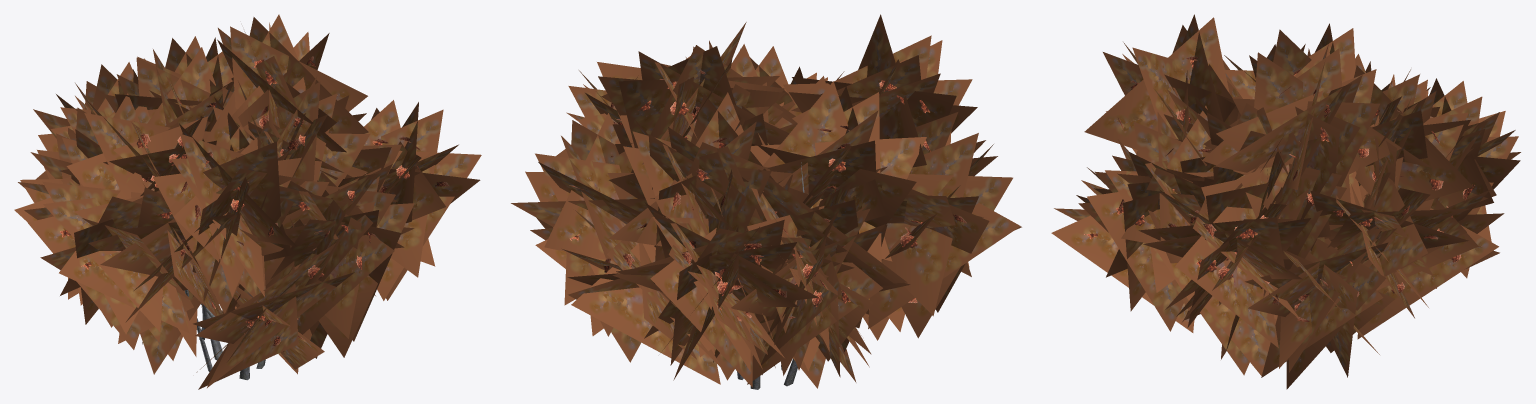
Rendered from Sorbus_Aria_Autumn_Young.glb.
The picture shows the model from 3 angles, left to right: view 1: azimuth 30°, elevation 25°; view 2: azimuth 150°, elevation 25°; view 3: azimuth 270°, elevation 25°; orthographic projection. The views are drawn at different scales.
Visible parts, largest first — view 1: Sorbus_Aria_Autumn_Young__LOD3; view 2: Sorbus_Aria_Autumn_Young__LOD3; view 3: Sorbus_Aria_Autumn_Young__LOD3.
Part boxes in pixels (x1,y1,x2,y2): Sorbus_Aria_Autumn_Young__LOD3: (14, 14, 481, 389); Sorbus_Aria_Autumn_Young__LOD3: (511, 14, 1021, 389); Sorbus_Aria_Autumn_Young__LOD3: (1051, 14, 1520, 389).
Size of the model in its own units: 4.72 by 3.41 by 4.56.
Materials: 3 (3 with a texture image).
